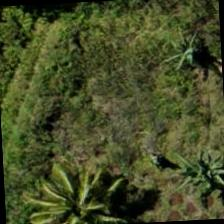Kelapa_Sawit: (32, 160, 126, 223)
